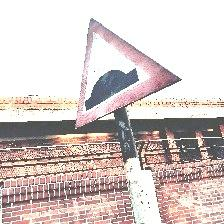Speed-breaker: (76, 18, 182, 129)
